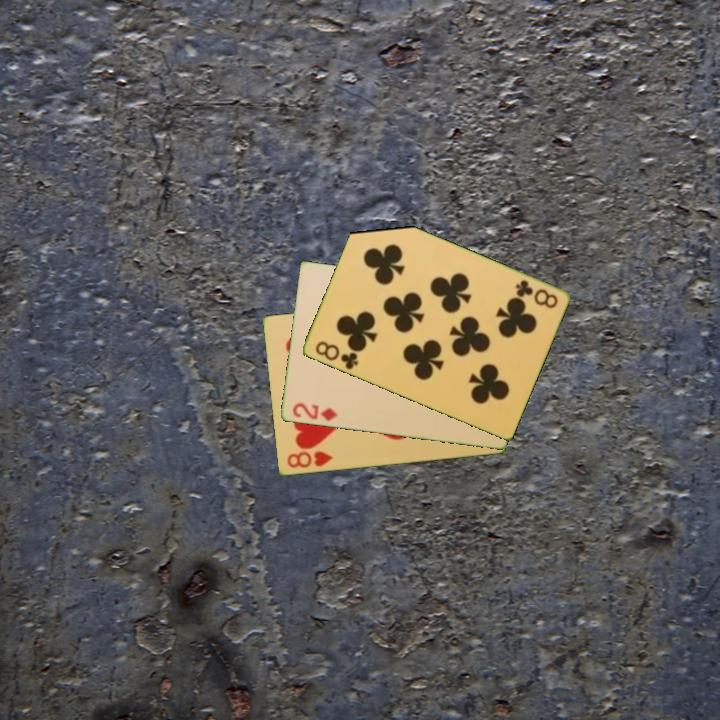2d: (289, 399, 340, 424)
8c: (511, 276, 560, 312), (311, 338, 361, 373)
8h: (283, 448, 336, 471)
